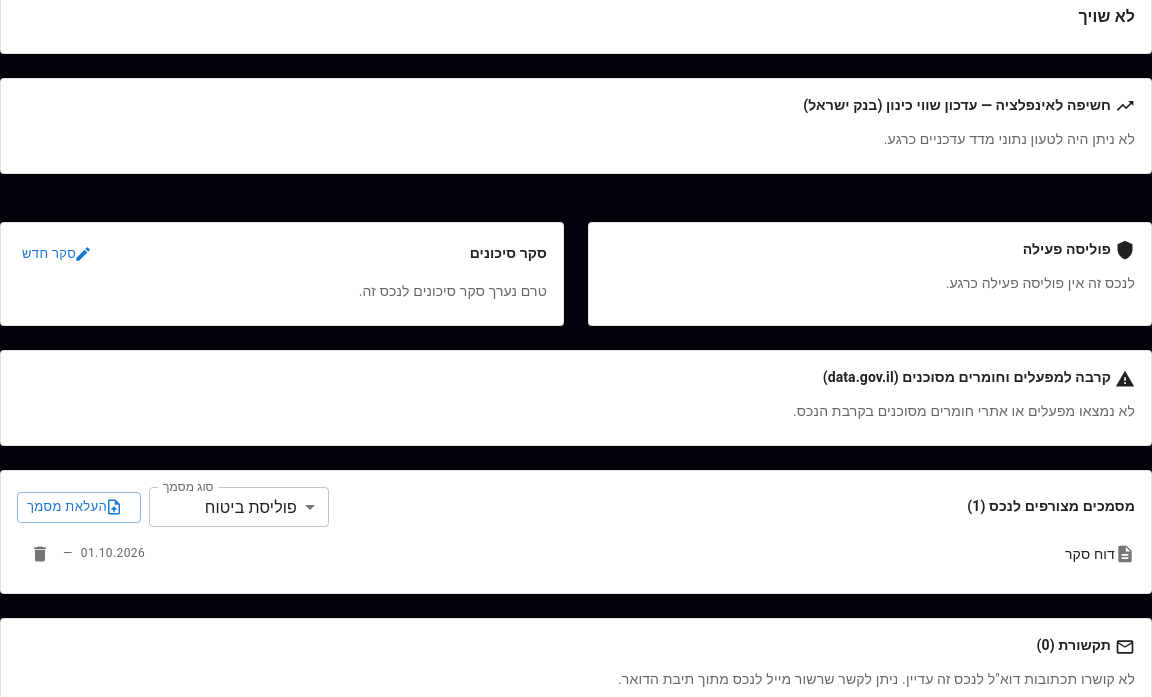
PropertyDetail — document delete › deletes after confirming and reports a failure
(page scrolled)
Click the button named "מחק מסמך". click: (40,554)
box: 25,539 -> 55,569
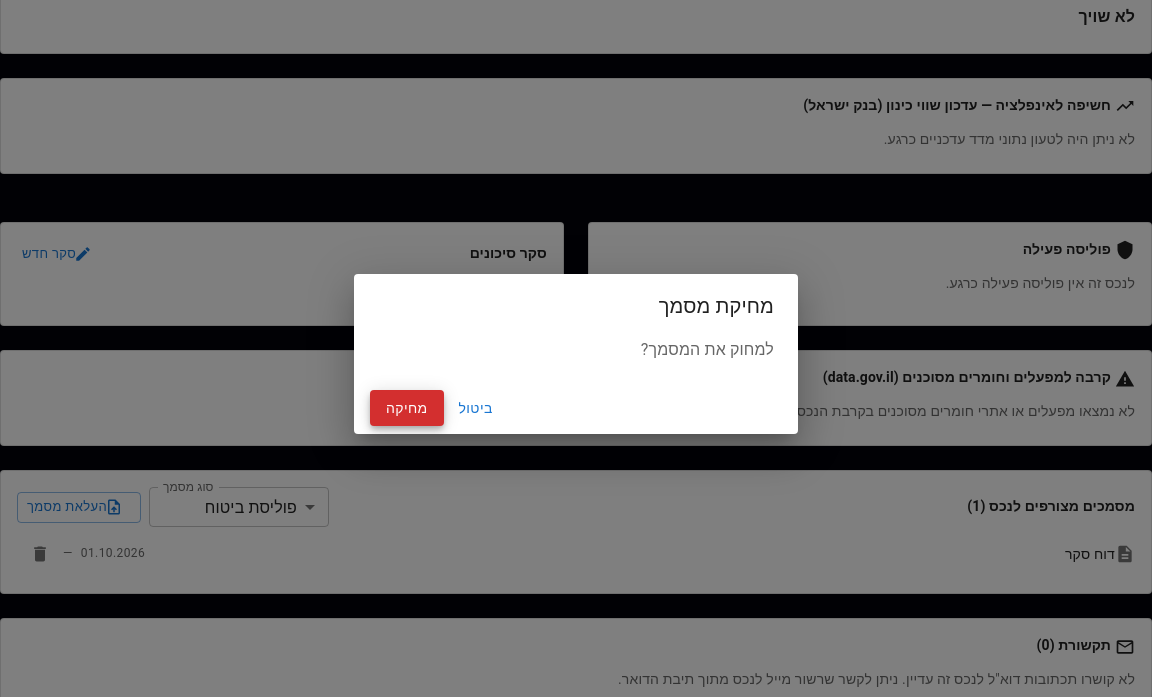
Click the button "מחיקה". click: (407,408)
box: 370,390 -> 444,426
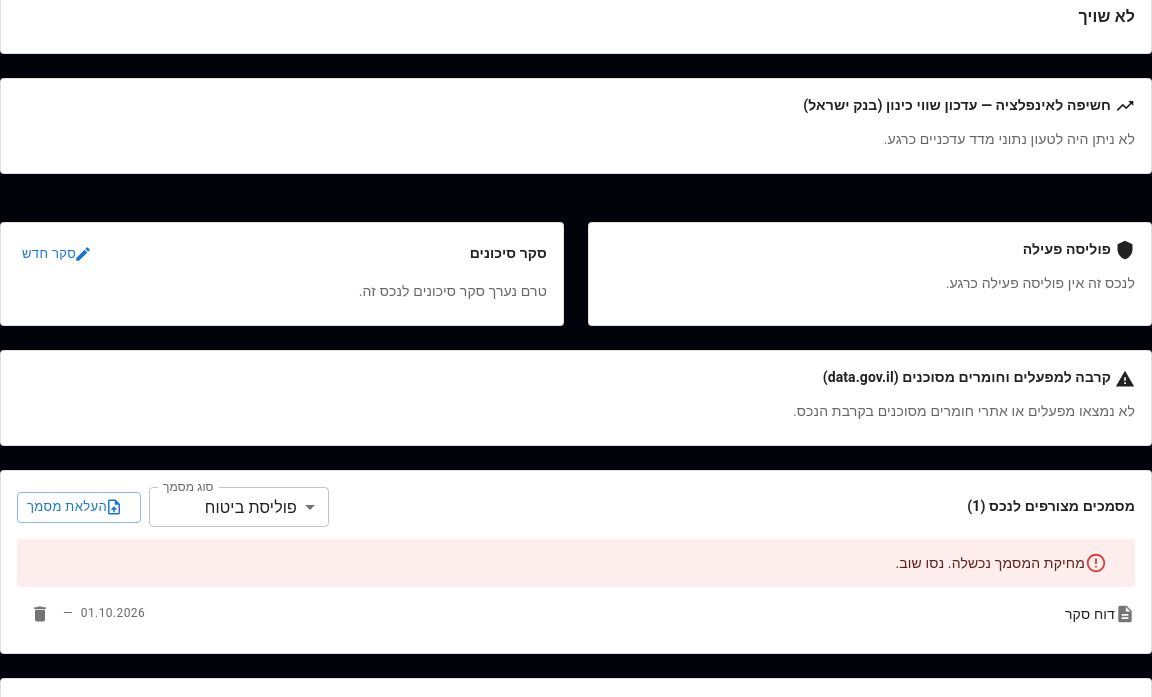
Expected: the text "מחיקת המסמך נכשלה. נסו שוב." is shown, 895,555 -> 1085,571
